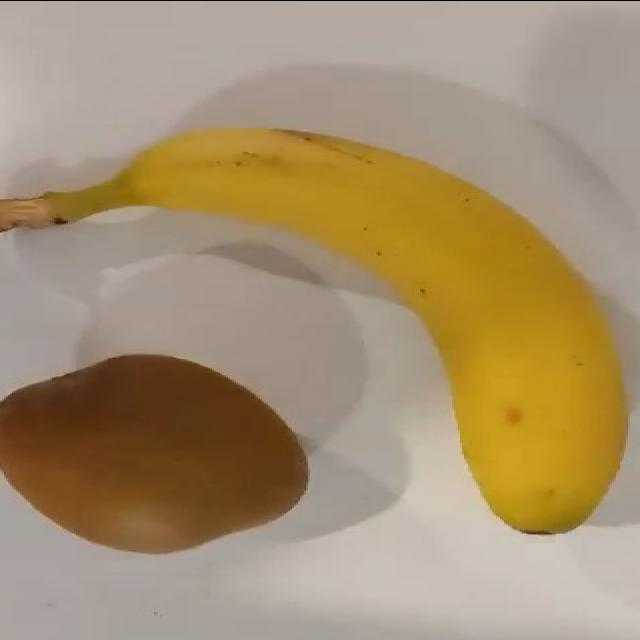Banana: (0, 124, 629, 535)
